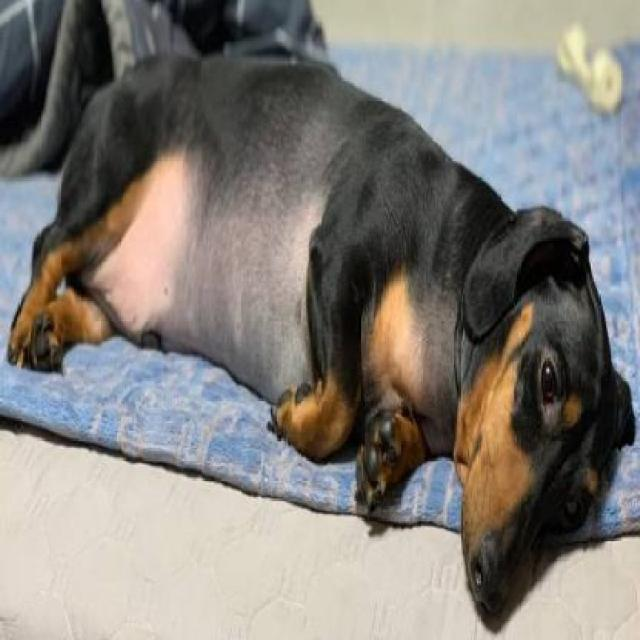Dog: (1, 35, 637, 628)
